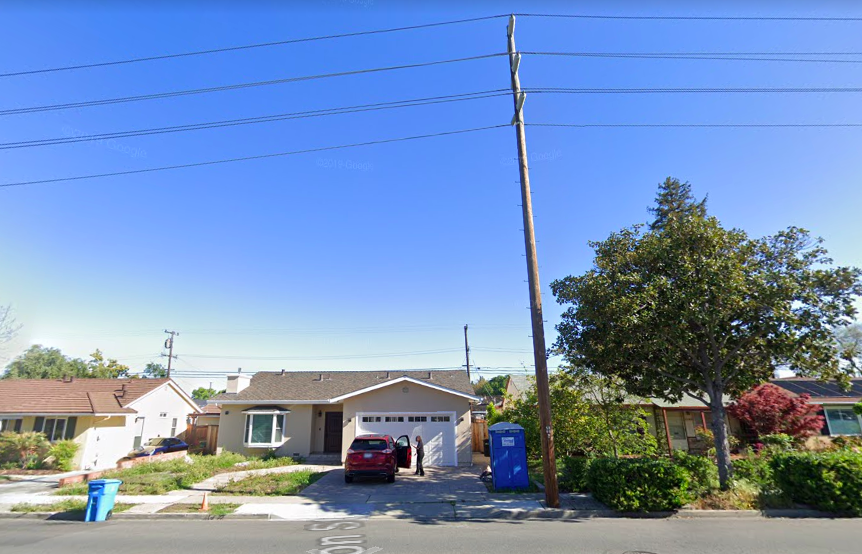tree: (547, 175, 862, 493)
utility_pole: (489, 7, 542, 141)
